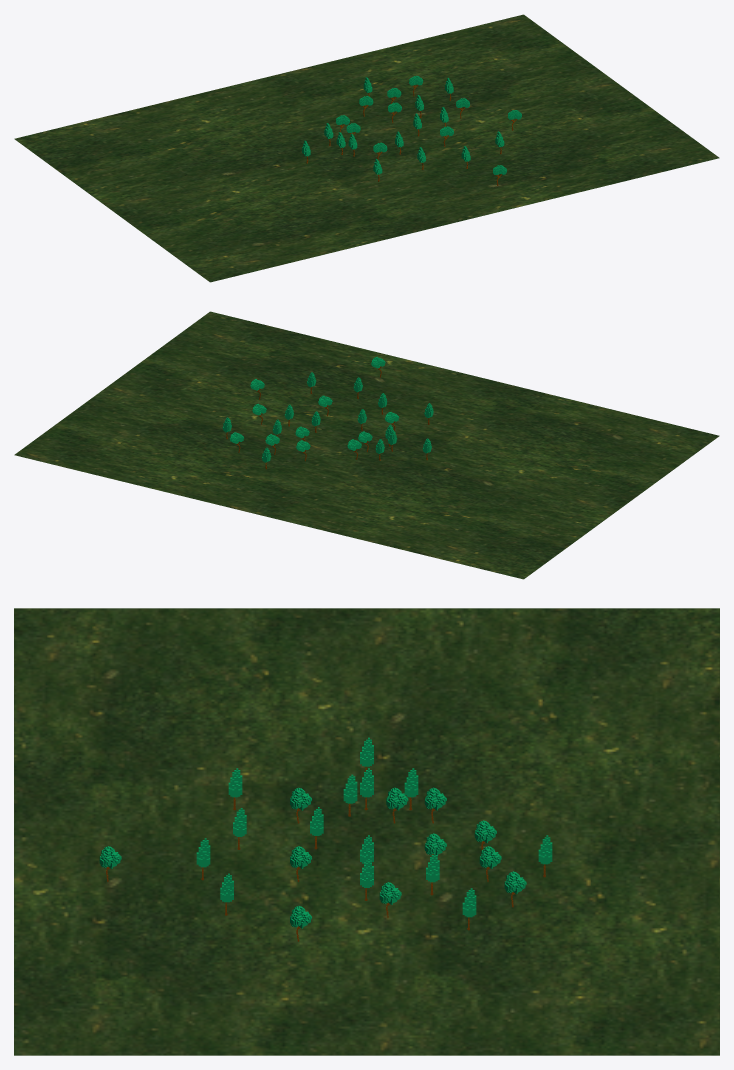
The model's file is Park.glb.
The picture shows the model from 3 angles, top to bottom: view 1: azimuth 30°, elevation 25°; view 2: azimuth 150°, elevation 25°; view 3: azimuth 270°, elevation 25°; orthographic projection. The views are drawn at different scales.
Parts seen in each view (by area): view 1: Plane; view 2: Plane; view 3: Plane.
Part boxes in pixels (x1,y1,x2,y2): Plane: (14,14,719,282); Plane: (14,311,719,579); Plane: (14,608,719,1055).
Size of the model in its own units: 30 by 1.3 by 20.
49 materials, 1 textured.
